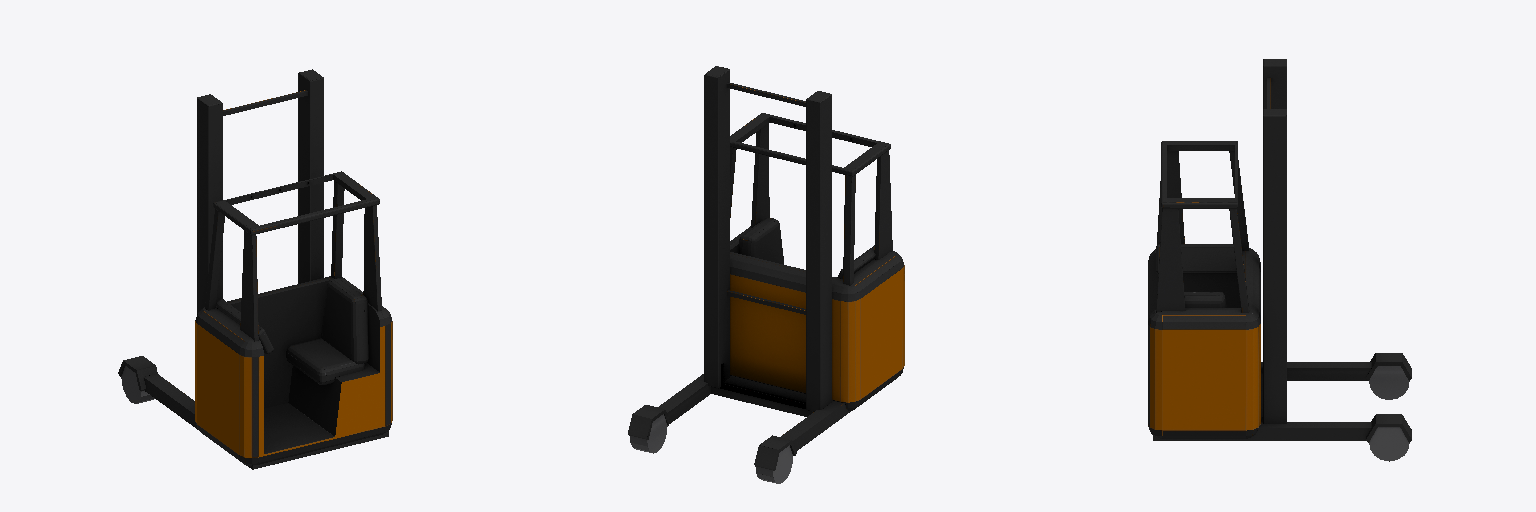
3 renders of one model, left to right at view 1: azimuth 30°, elevation 25°; view 2: azimuth 150°, elevation 25°; view 3: azimuth 270°, elevation 25°, orthographic.
Parts seen in each view (by area): view 1: ChamferBox001; view 2: ChamferBox001; view 3: ChamferBox001.
Part boxes in pixels (x1,y1,x2,y2): ChamferBox001: (118,69,392,469); ChamferBox001: (628,66,904,483); ChamferBox001: (1148,59,1411,461).
Bounding box in the file's own units: 4 × 8.56 × 6.04.
Materials: 1 (1 with a texture image).